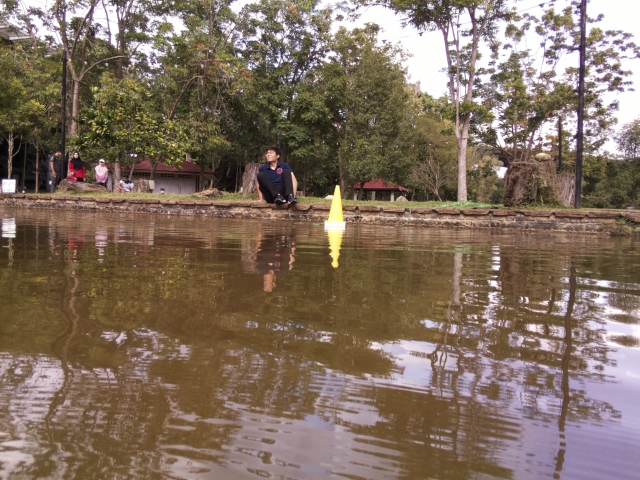checkpoint: (324, 183, 348, 231)
